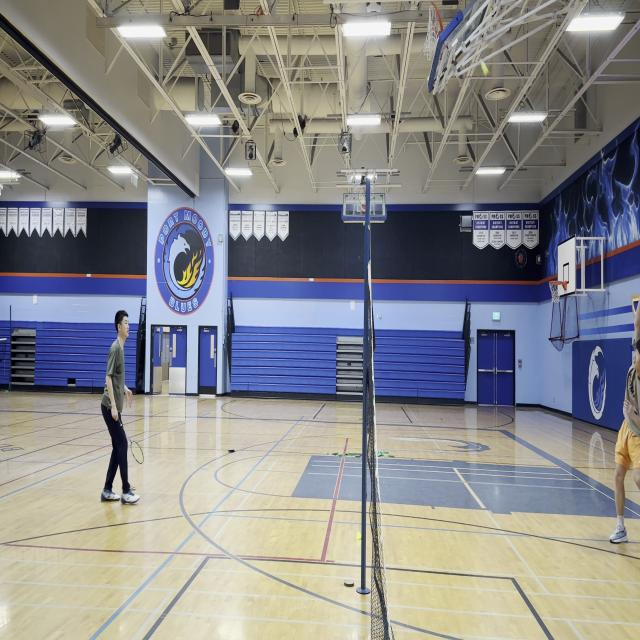shuttlecock: (479, 60, 488, 76)
